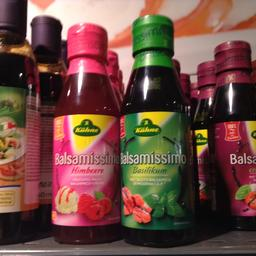vinegar: (116, 15, 210, 241), (44, 24, 126, 242), (206, 42, 255, 236)
